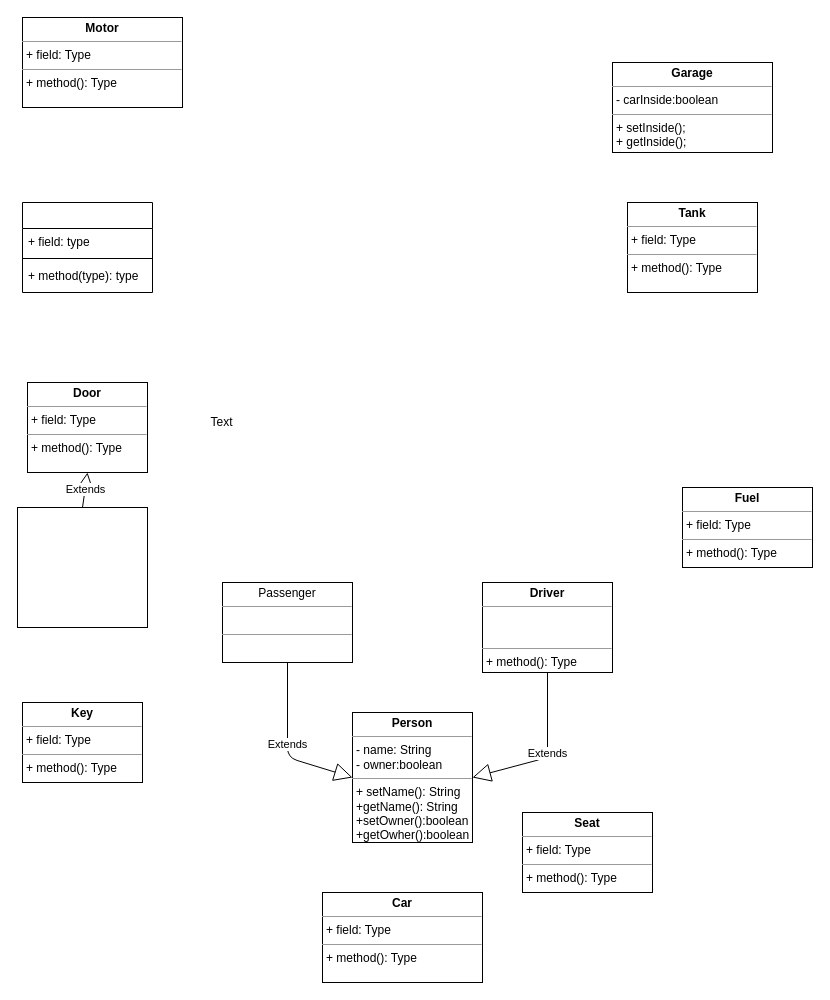
Some shapes in this 830 by 1000 pixel diagram are drawn without their labels. Each missing label, with the box of its shape:
Lock + field: Type + void Lock();: (16, 506, 148, 628)
Whell: (22, 202, 152, 292)
